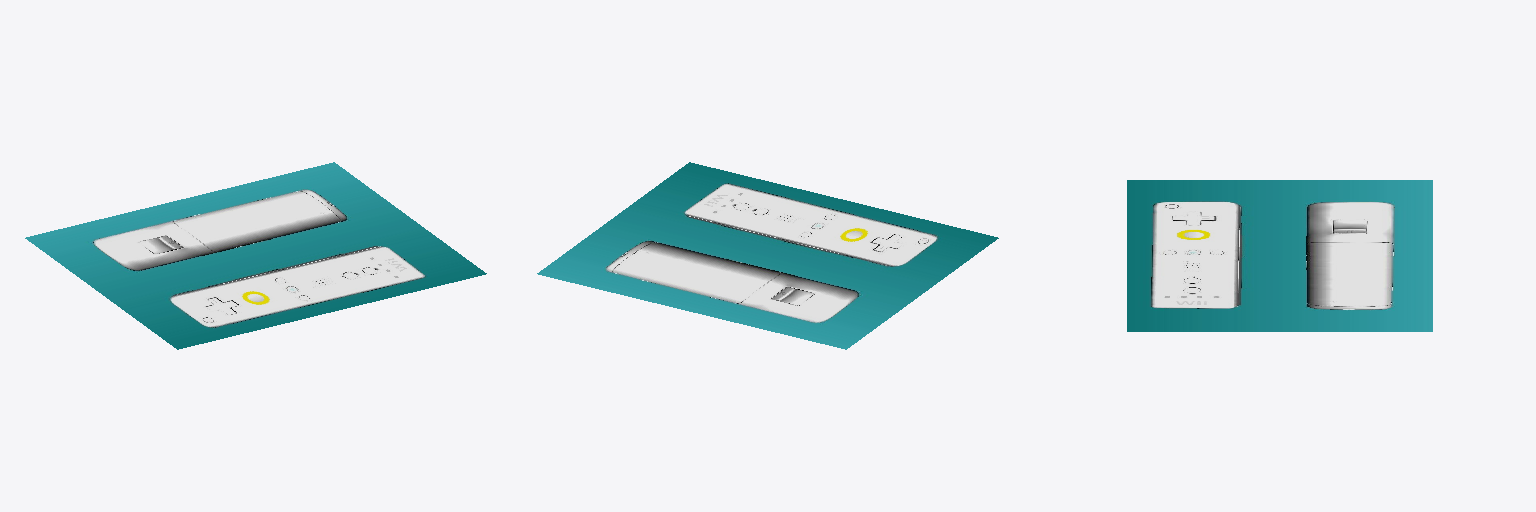
3 renders of one model, left to right at view 1: azimuth 30°, elevation 25°; view 2: azimuth 150°, elevation 25°; view 3: azimuth 270°, elevation 25°, orthographic.
Visible parts, largest first — view 1: Plane002; view 2: Plane002; view 3: Plane002.
Boxes of the visible parts, x1=… form: Plane002: x1=25, y1=162, x2=486, y2=349; Plane002: x1=537, y1=162, x2=998, y2=349; Plane002: x1=1127, y1=180, x2=1432, y2=331.
Size of the model in its own units: 94.59 by 0 by 80.88.
Materials: 1 (1 with a texture image).